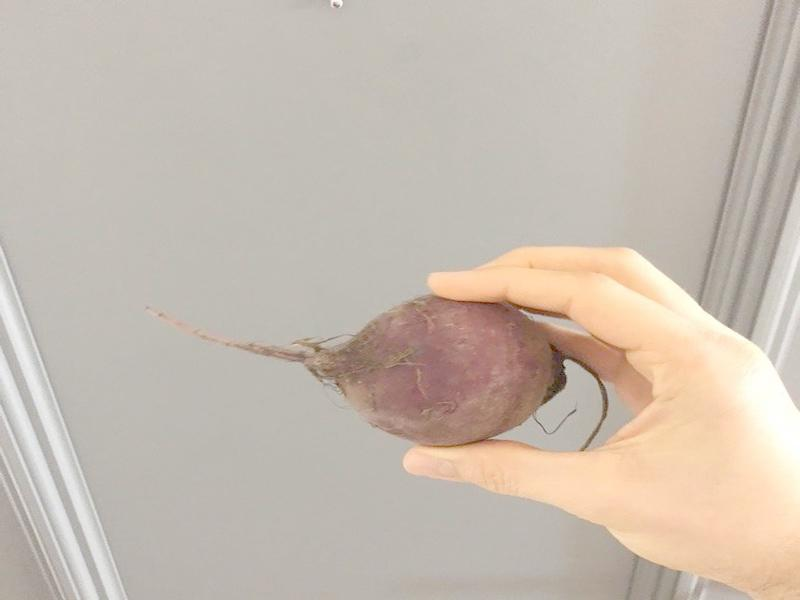Beet: (135, 298, 605, 449)
